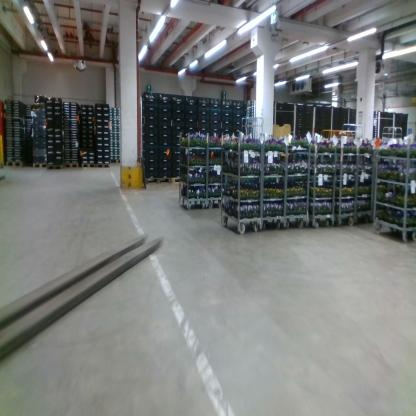pallet: (142, 174, 173, 185), (81, 161, 112, 169), (171, 173, 190, 185), (4, 159, 26, 169), (47, 162, 64, 171), (63, 161, 80, 169), (32, 161, 48, 168), (109, 158, 123, 163)
